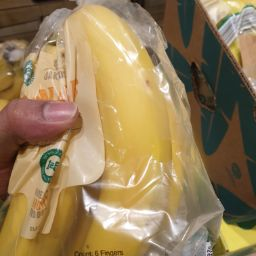Bannana: (33, 8, 196, 256), (28, 8, 193, 233), (11, 150, 222, 256)
